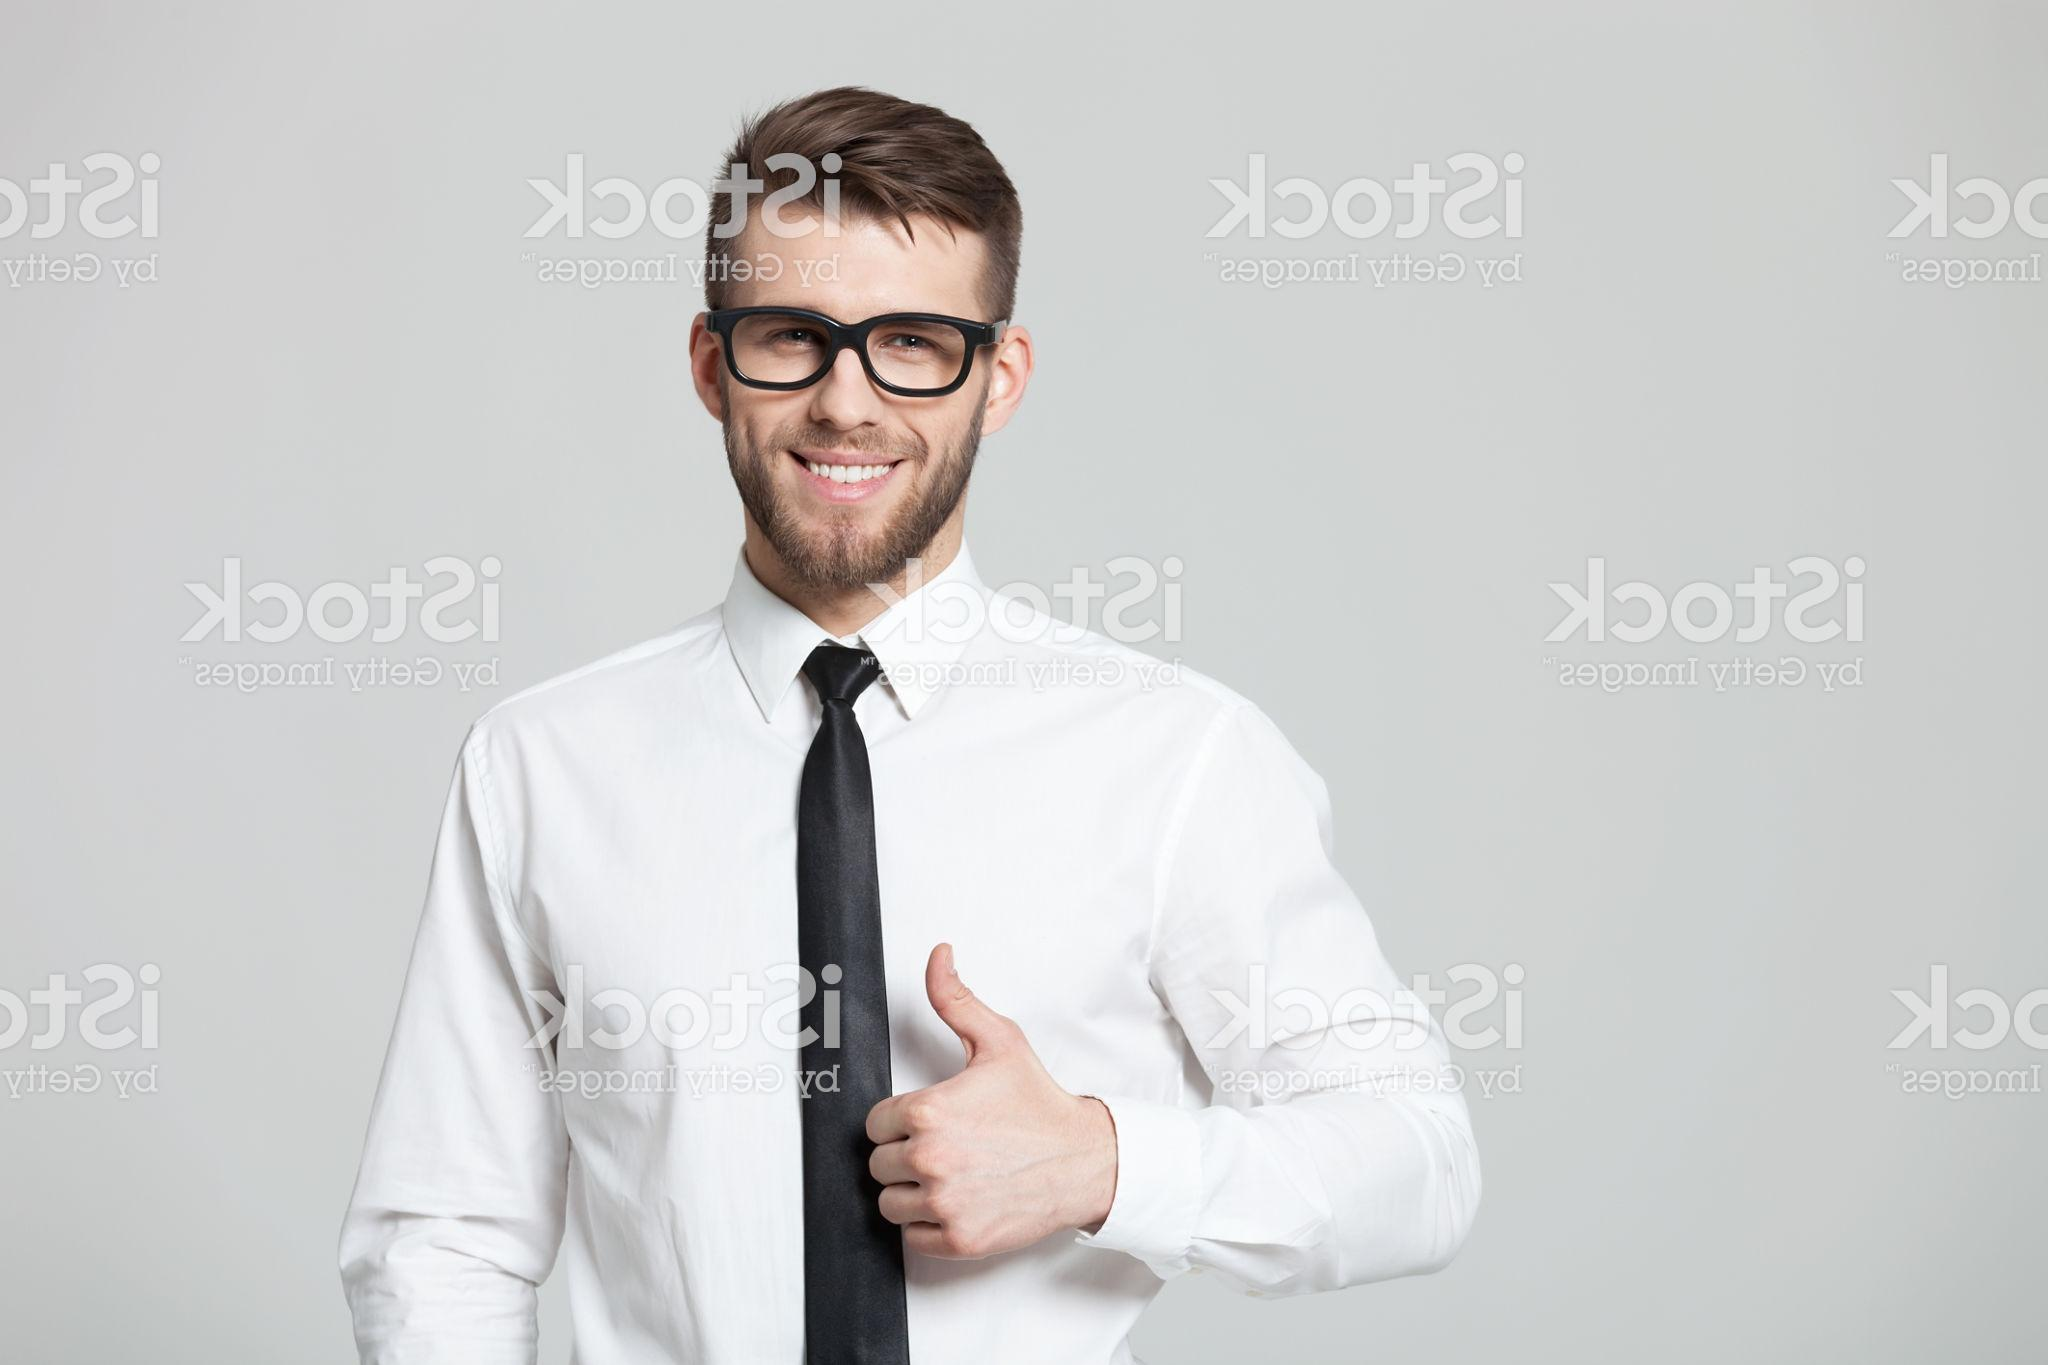thumbsup: (859, 941, 1058, 1266)
